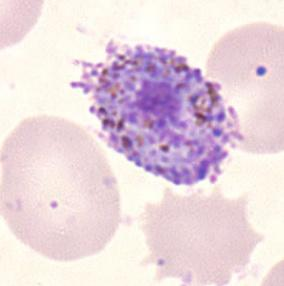Infected: (69, 39, 246, 186)
Uninfected: (0, 114, 120, 260), (140, 189, 260, 286), (202, 18, 284, 155)
